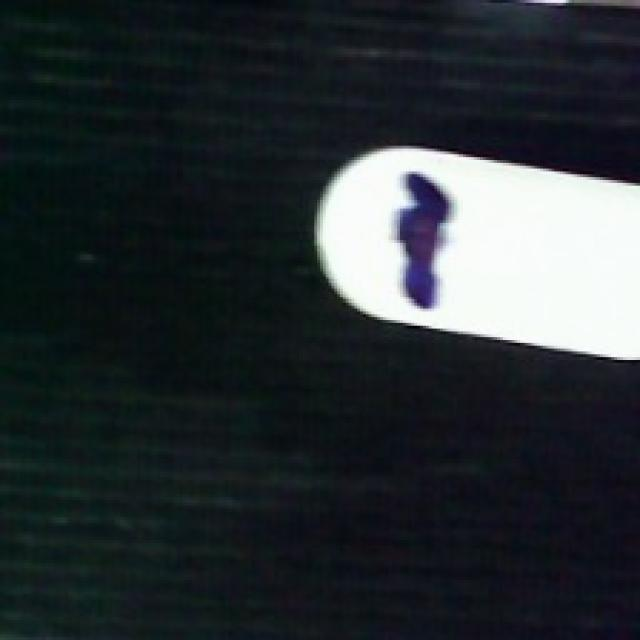defected: (309, 146, 640, 363)
